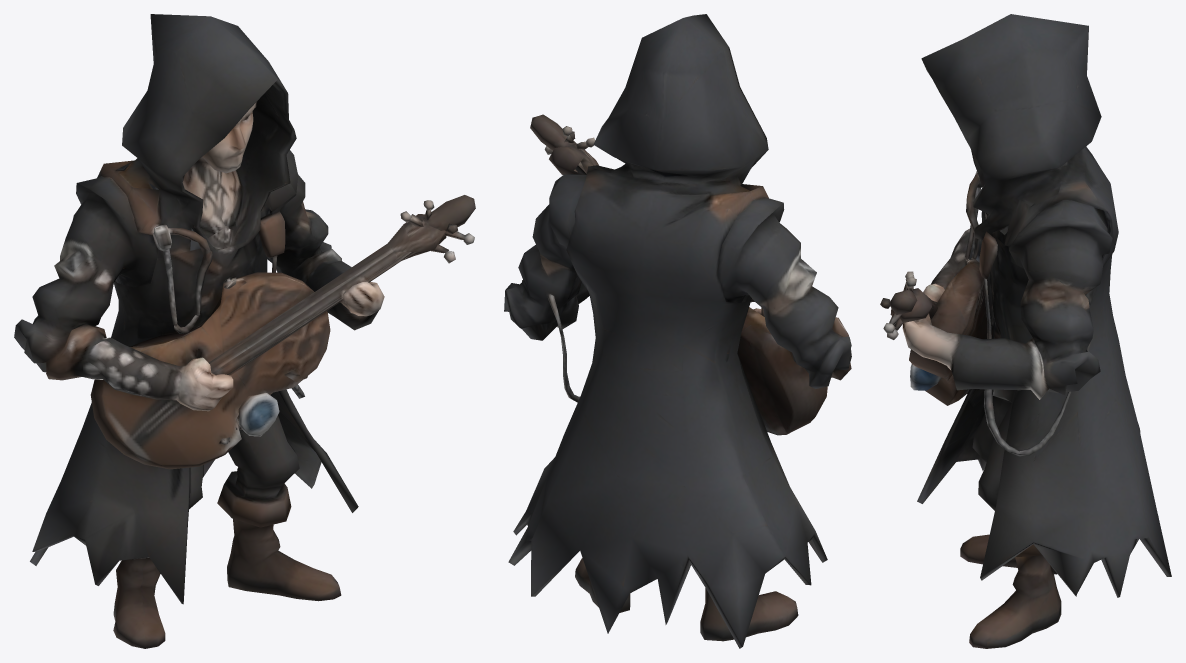
The model's file is jo_long.glb.
3 views of the same model, side by side, from view 1: azimuth 30°, elevation 25°; view 2: azimuth 150°, elevation 25°; view 3: azimuth 270°, elevation 25° (orthographic). The views are drawn at different scales.
Visible parts, largest first — view 1: Mesh_0.001; view 2: Mesh_0.001; view 3: Mesh_0.001.
Part boxes in pixels (left/top/right/bottom): Mesh_0.001: left=14, top=14, right=475, bottom=648; Mesh_0.001: left=504, top=14, right=851, bottom=648; Mesh_0.001: left=880, top=14, right=1171, bottom=648.
Size of the model in its own units: 1.36 by 2 by 0.9121.
1 material, 1 textured.
